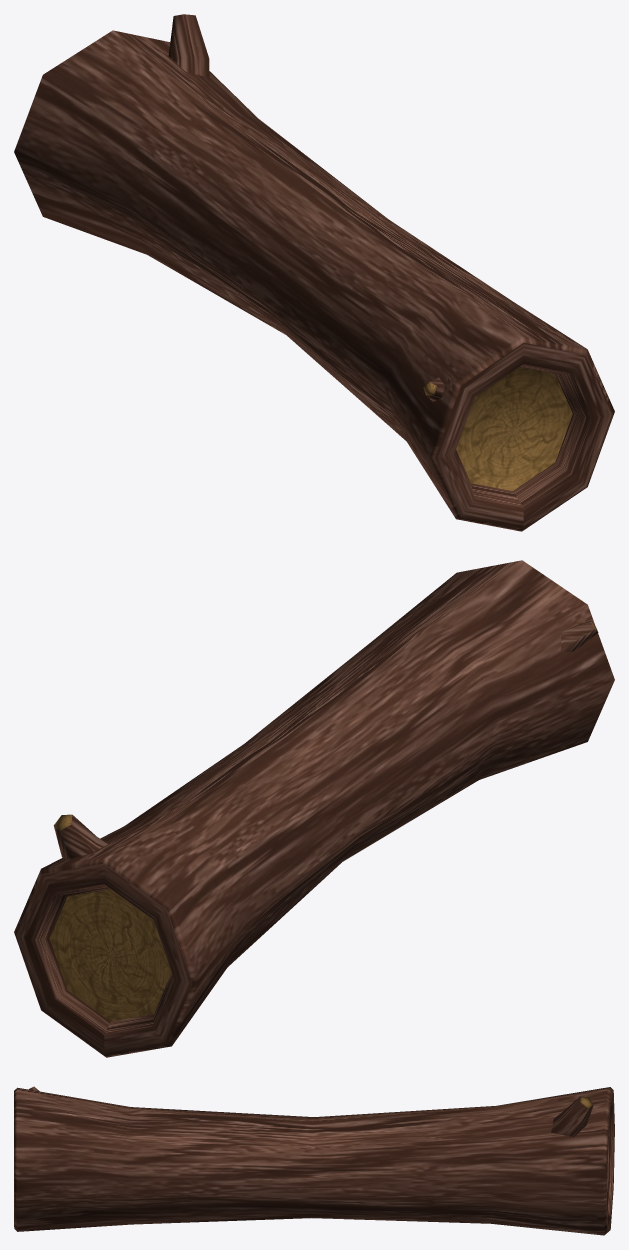
The model's file is Veg_Trunk_03_Art.fbx.
3 renders of one model, top to bottom at view 1: azimuth 30°, elevation 25°; view 2: azimuth 150°, elevation 25°; view 3: azimuth 270°, elevation 25°, orthographic. The views are drawn at different scales.
Parts seen in each view (by area): view 1: Veg_Trunk_03; view 2: Veg_Trunk_03; view 3: Veg_Trunk_03.
Part boxes in pixels (box(x1,y1,x2,y2)): Veg_Trunk_03: box(14, 14, 614, 531); Veg_Trunk_03: box(14, 560, 614, 1057); Veg_Trunk_03: box(14, 1086, 614, 1235).
Size of what is drawn, in the model's own units: 103 by 111 by 390.
